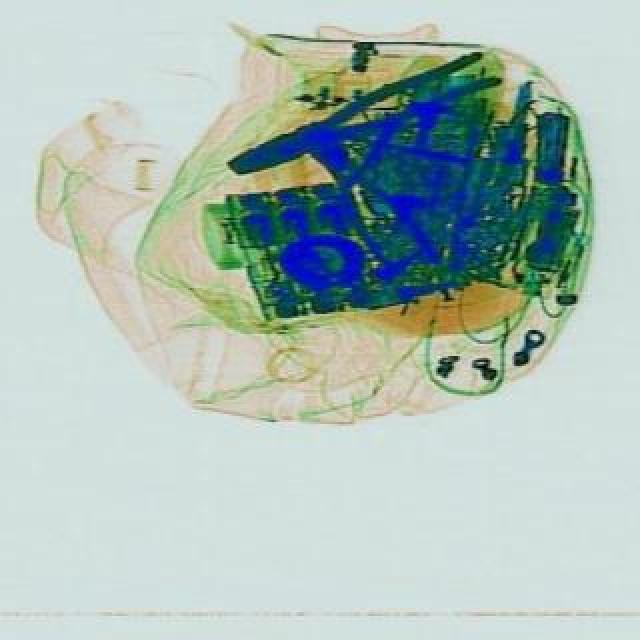wrench: (218, 46, 500, 194), (294, 130, 444, 292)
